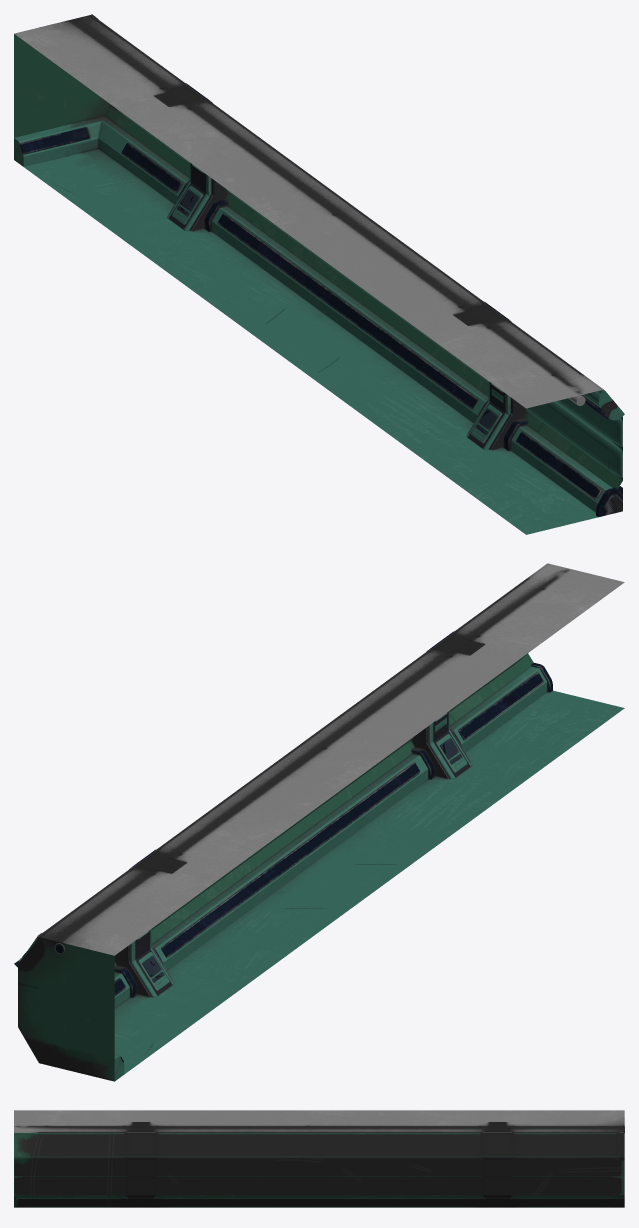
The picture shows the model from 3 angles, top to bottom: view 1: azimuth 30°, elevation 25°; view 2: azimuth 150°, elevation 25°; view 3: azimuth 270°, elevation 25°; orthographic projection. The views are drawn at different scales.
Parts seen in each view (by area): view 1: polySurface360; view 2: polySurface360; view 3: polySurface360.
Part boxes in pixels (box(x1,y1,x2,y2)): polySurface360: box(14, 14, 624, 534); polySurface360: box(14, 563, 624, 1081); polySurface360: box(14, 1110, 624, 1207).
Size of the model in its own units: 14.62 by 17.62 by 128.
Materials: 1 (1 with a texture image).
